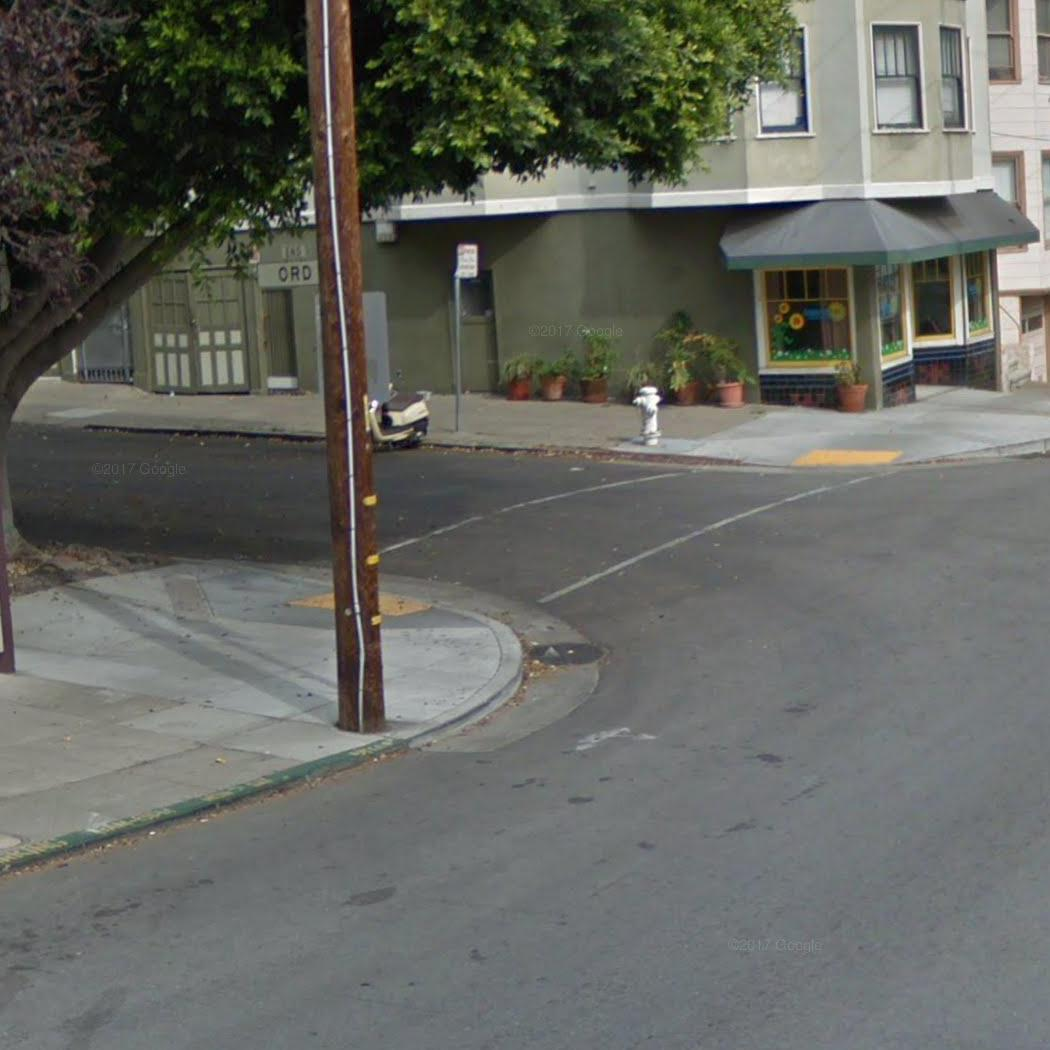No Parking: (453, 237, 486, 285)
